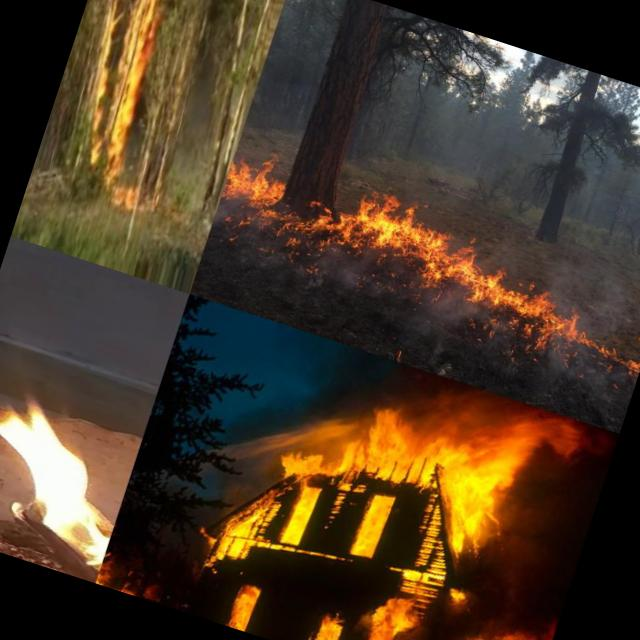fire: (212, 333, 544, 635), (0, 244, 188, 583), (58, 0, 178, 185), (539, 298, 640, 379), (272, 189, 364, 277), (218, 132, 302, 228), (342, 182, 430, 269), (468, 262, 560, 344), (405, 219, 492, 305), (444, 599, 556, 640), (99, 562, 159, 602), (353, 603, 415, 640), (224, 578, 262, 632), (306, 611, 345, 640)
smoke: (338, 62, 533, 224), (526, 352, 620, 420), (598, 126, 640, 256), (260, 252, 343, 314), (394, 285, 473, 347), (337, 253, 410, 319), (206, 207, 280, 270)
